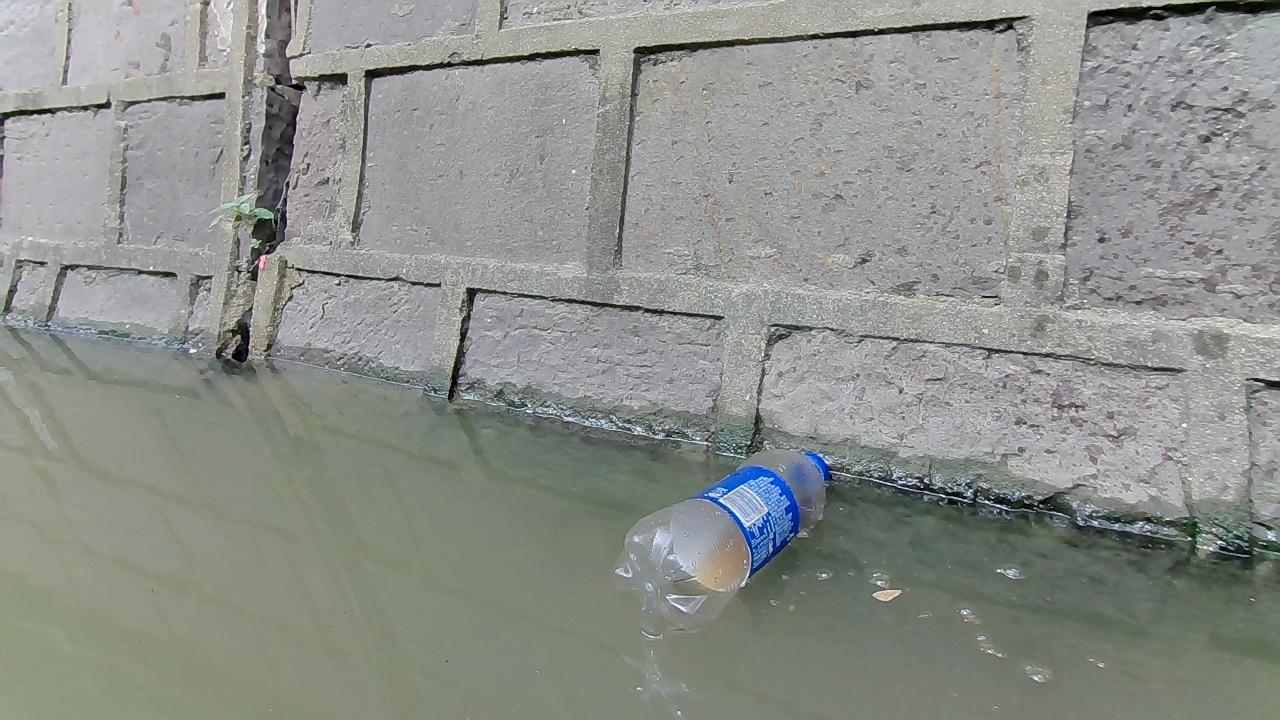bottle: (612, 445, 831, 641)
